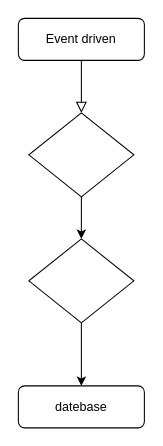
Image size: 163x446. Some labels were removed from this diagram. Each missing label, with the centre of its shape:
dao: [81,280]
service: [81,154]
